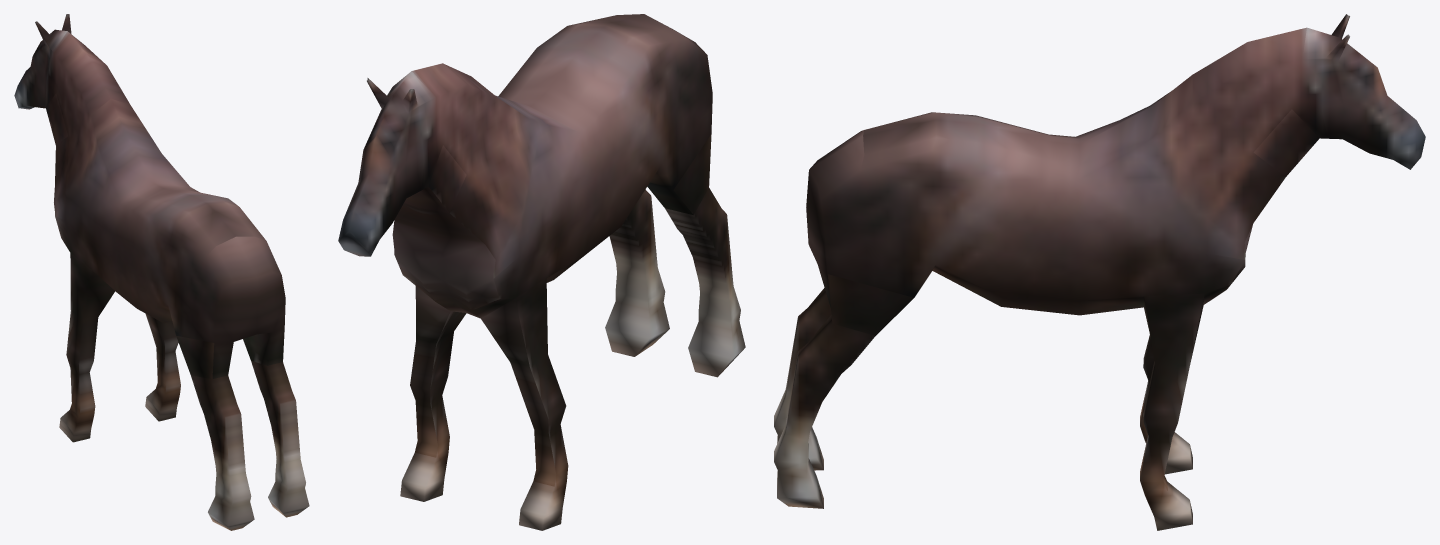
Rendered from horse.obj.
3 renders of one model, left to right at view 1: azimuth 30°, elevation 25°; view 2: azimuth 150°, elevation 25°; view 3: azimuth 270°, elevation 25°, orthographic. The views are drawn at different scales.
Parts seen in each view (by area): view 1: Cube; view 2: Cube; view 3: Cube.
Boxes of the visible parts, x1,y1,x2,y2 form: Cube: (14,14,309,530); Cube: (338,14,745,530); Cube: (774,14,1425,530).
Bounding box in the file's own units: 0.4219 × 1.41 × 1.76.
